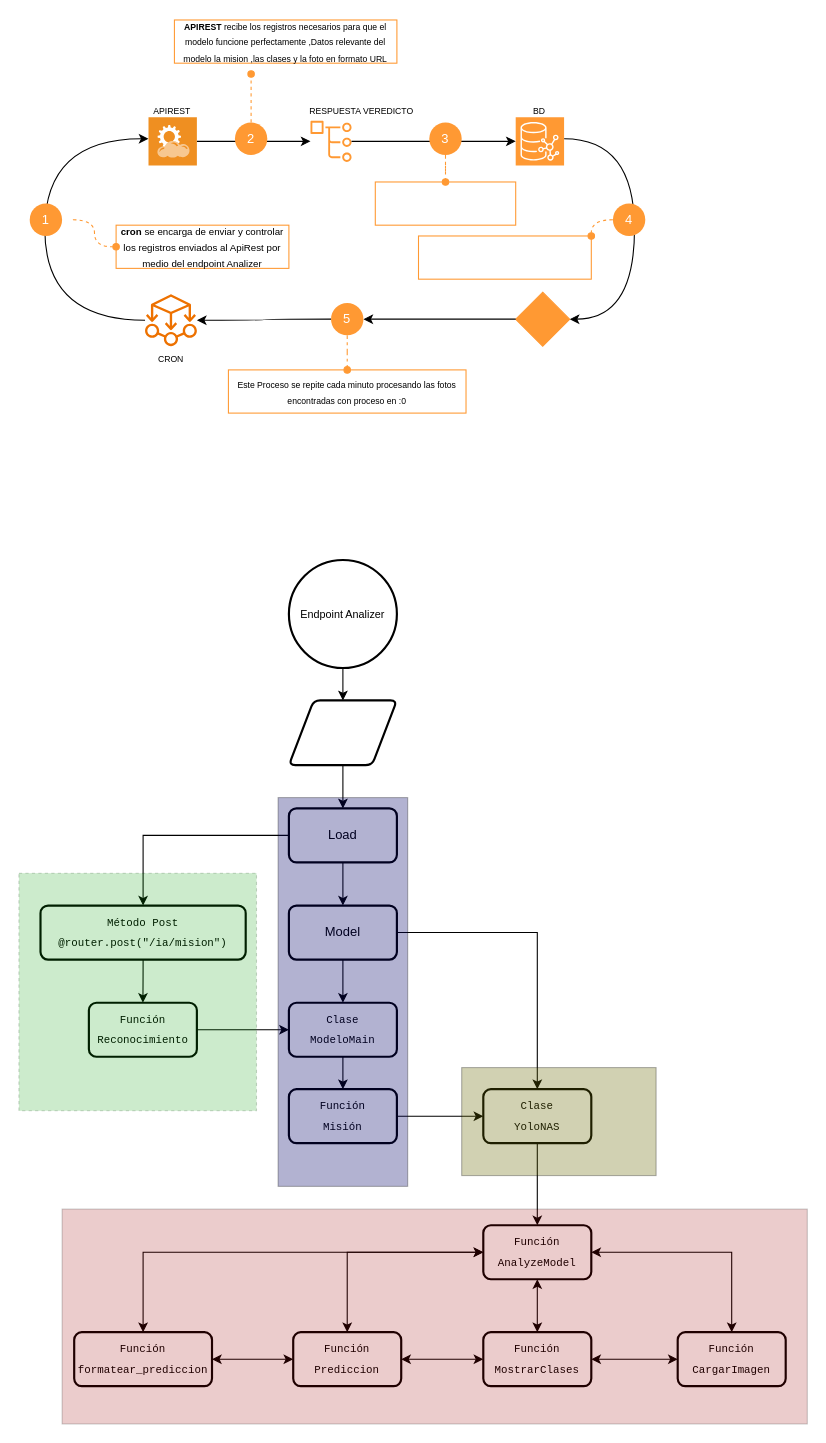
This 826x1443 diagram has some shape labels left out. Here are the shapes that lost their labels. From the top down, the box of each, then its label:
(374, 181, 516, 225): Los resultados del API son enviados a la Base de Datos
(417, 235, 591, 279): El proceso de veredicto es marcado a 1 :indicando que la imagen fue procesada
(515, 291, 570, 346): proceso:1
(287, 699, 397, 766): Body Json
(18, 872, 256, 1111): Capa HTTP
(277, 796, 408, 1186): Scafolding
(461, 1066, 656, 1176): Modelo Predictivo
(61, 1208, 807, 1424): Capa Predictiva
